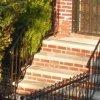stairs: (14, 34, 91, 98)
